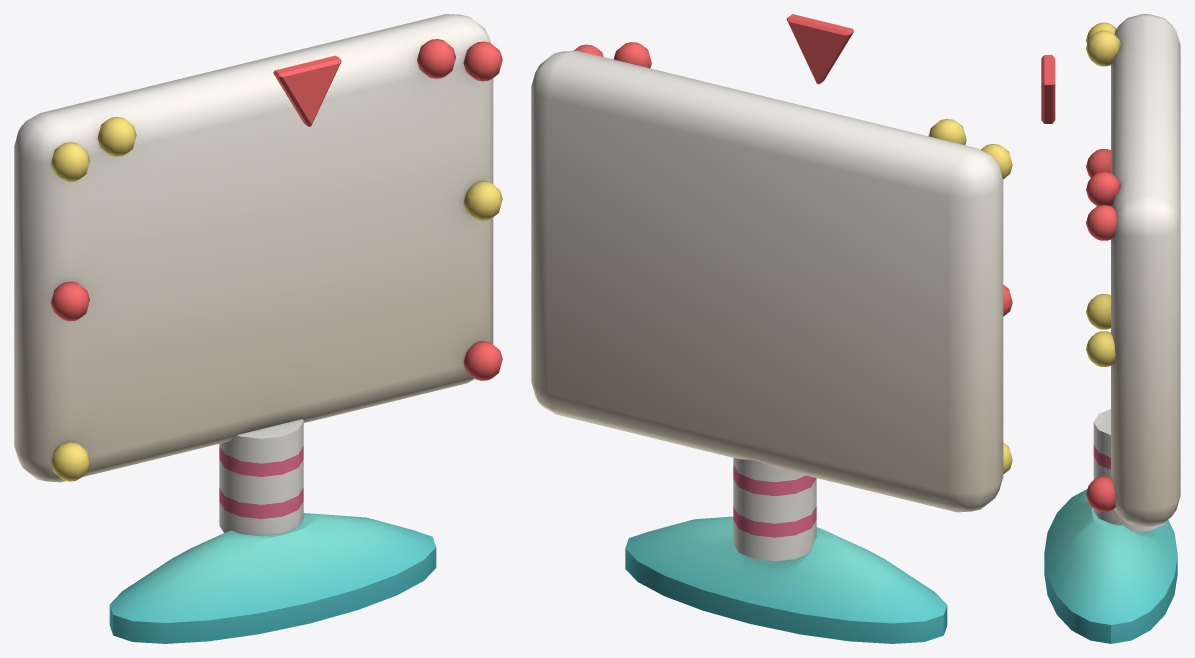
Rendered from wheel_stand.fbx.
The picture shows the model from 3 angles, left to right: view 1: azimuth 30°, elevation 25°; view 2: azimuth 150°, elevation 25°; view 3: azimuth 270°, elevation 25°; orthographic projection. The views are drawn at different scales.
Visible parts, largest first — view 1: wheel_stand; view 2: wheel_stand; view 3: wheel_stand.
Boxes of the visible parts, <box> form: wheel_stand: <box>14,14,502,643</box>; wheel_stand: <box>531,14,1012,643</box>; wheel_stand: <box>1041,14,1180,643</box>.
Bounding box in the file's own units: 700 × 800 × 200.
1 material, 1 textured.
